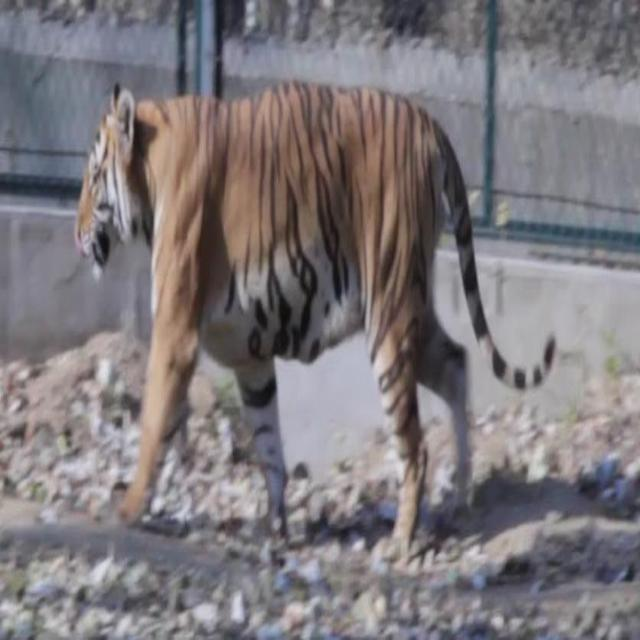tiger: (70, 72, 569, 577)
